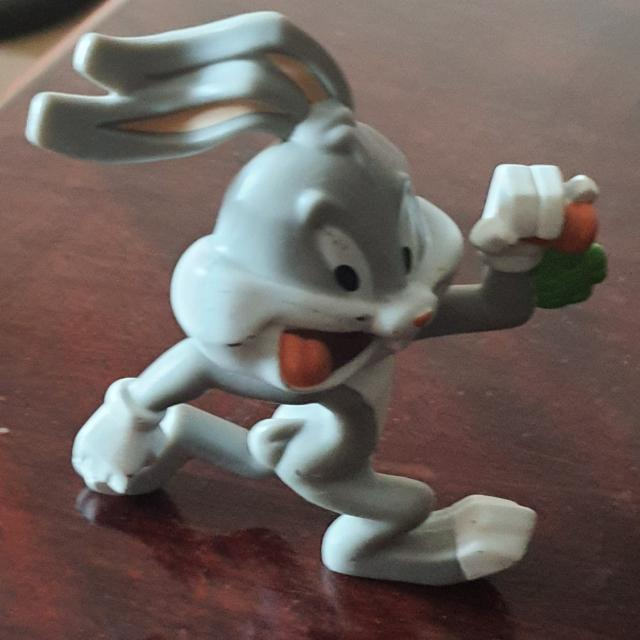Rabbit: (24, 10, 608, 587)
